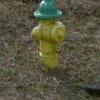Hydrant: (24, 0, 68, 78)
